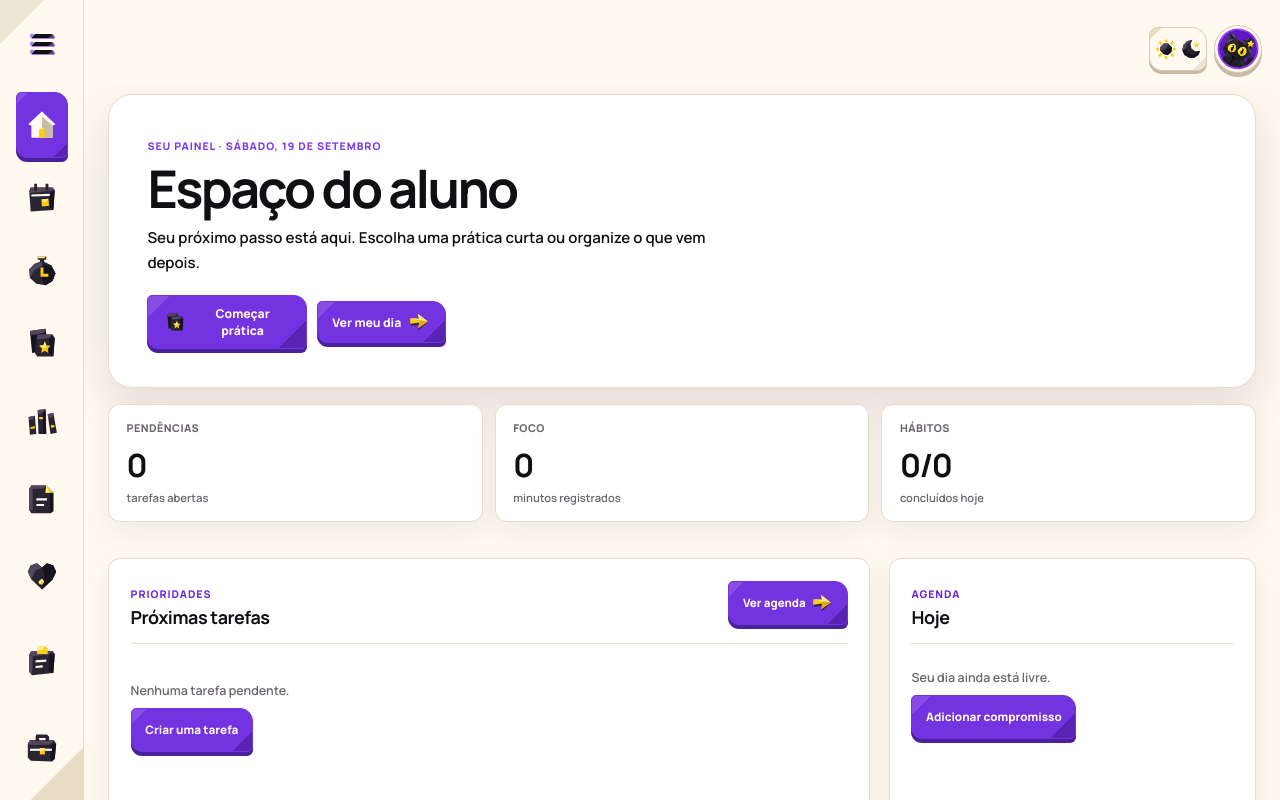
Test: App › oferece digitalização e escrita à mão dentro de uma anotação
Click the button named "Cadernos" at (42, 499), box [16, 464, 68, 534]
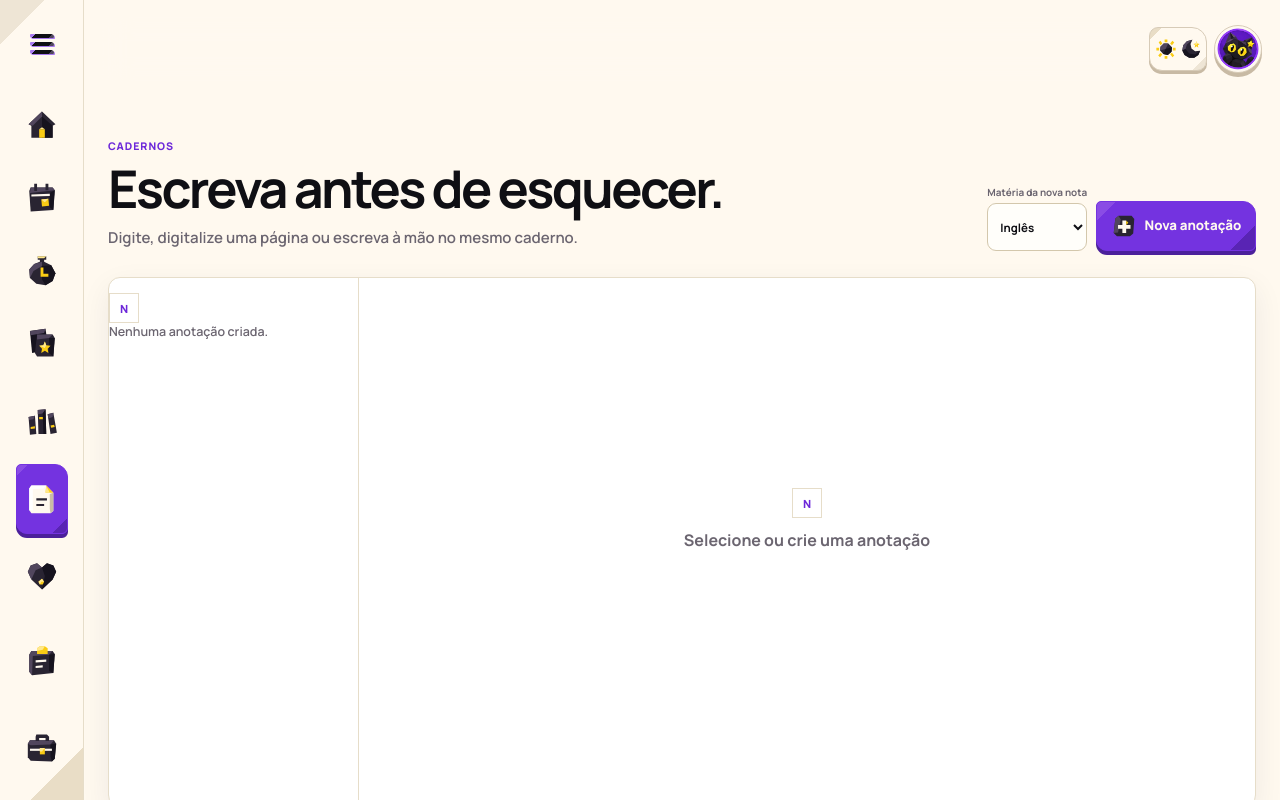
Click the button "Nova anotação" at (1176, 226), box [1096, 201, 1256, 251]
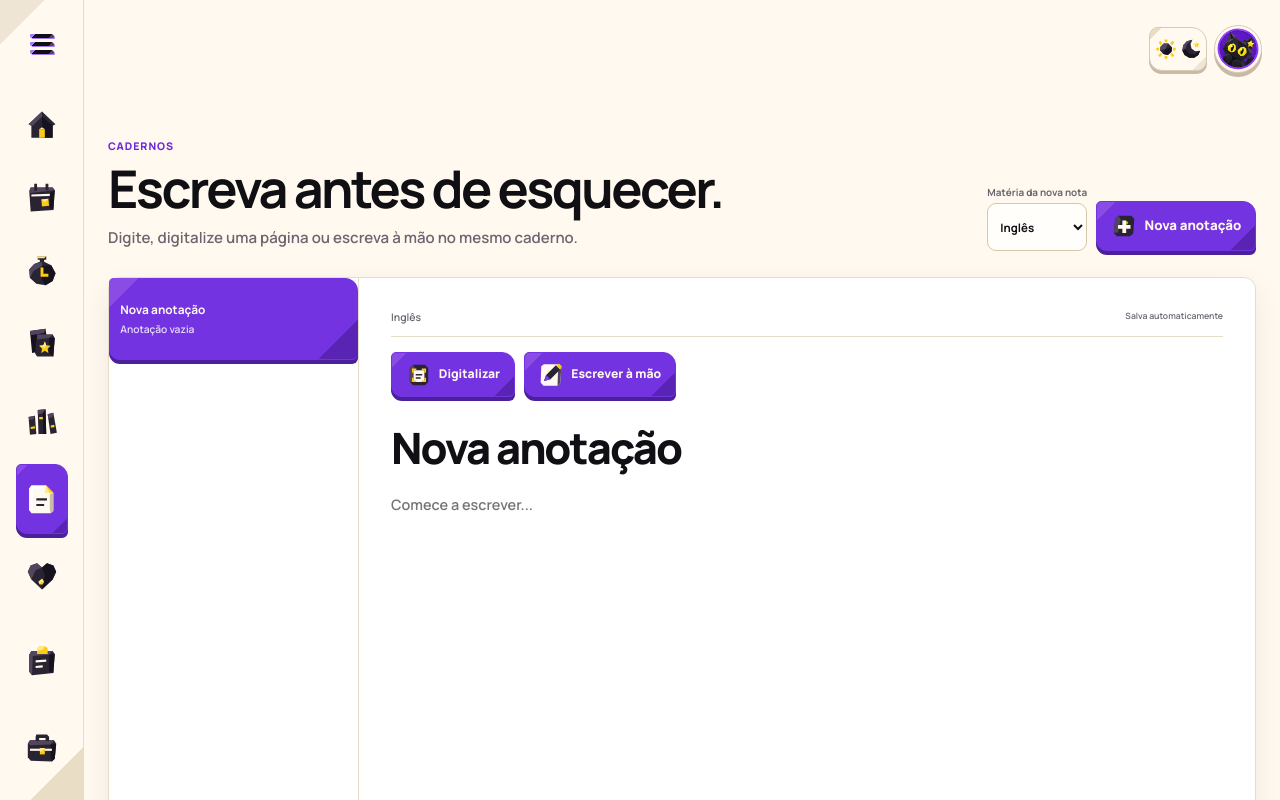
Result: the button "Digitalizar" is shown at [391, 352, 515, 398]
Result: the button "Escrever à mão" is shown at [524, 352, 676, 398]
